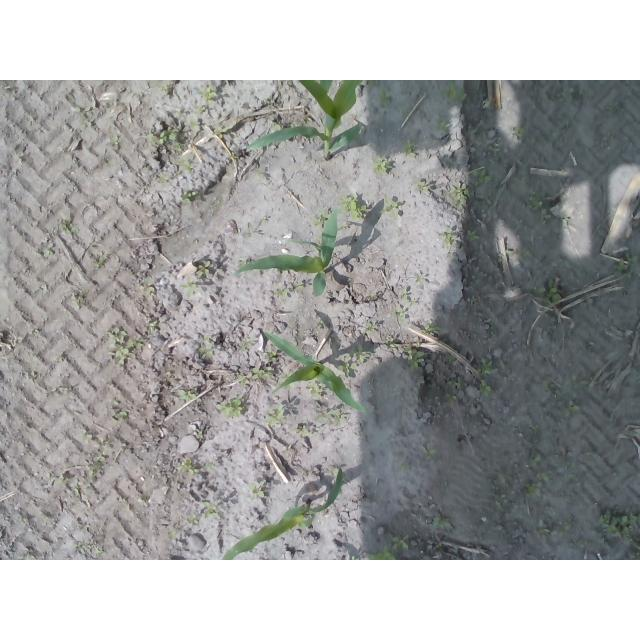Maize: (217, 467, 343, 560), (258, 327, 372, 421), (245, 81, 367, 164), (230, 210, 340, 298)
Weeds: (599, 510, 640, 559), (107, 326, 146, 369), (527, 451, 552, 498), (337, 344, 371, 375), (337, 190, 369, 222), (533, 276, 565, 304), (526, 193, 553, 225), (494, 472, 515, 513), (394, 287, 419, 321), (449, 179, 473, 210), (613, 251, 639, 279), (439, 81, 469, 104), (533, 520, 575, 536), (271, 282, 305, 299), (239, 368, 273, 384), (318, 410, 349, 426), (177, 456, 200, 476), (147, 129, 177, 144), (430, 514, 455, 531), (406, 348, 426, 369), (221, 399, 243, 418), (373, 156, 392, 177), (469, 168, 491, 186), (265, 403, 283, 425), (478, 357, 498, 376), (571, 370, 590, 390), (560, 401, 582, 418), (365, 548, 396, 560), (442, 230, 459, 250), (390, 534, 410, 551), (202, 498, 219, 518), (381, 199, 399, 216), (181, 281, 198, 298), (197, 345, 215, 361), (481, 141, 504, 153), (375, 89, 391, 106), (177, 387, 196, 401), (248, 483, 265, 498), (196, 260, 210, 277), (421, 445, 436, 460), (479, 381, 492, 398), (179, 158, 193, 173), (202, 86, 216, 101), (446, 377, 462, 390), (308, 384, 324, 397), (59, 223, 77, 234), (436, 119, 450, 133), (212, 126, 225, 141), (404, 143, 416, 158), (423, 323, 441, 333), (313, 215, 328, 227), (465, 230, 479, 242), (265, 350, 279, 362), (182, 190, 198, 200), (385, 339, 398, 350), (415, 181, 429, 191), (174, 142, 186, 153), (444, 392, 458, 401), (80, 432, 93, 441), (187, 515, 198, 525), (196, 105, 206, 115), (366, 324, 377, 333), (159, 83, 169, 92), (473, 199, 481, 210), (196, 432, 205, 441), (448, 355, 456, 365), (45, 248, 55, 256), (190, 120, 198, 129), (118, 410, 127, 418), (272, 125, 280, 131), (349, 556, 356, 561)
